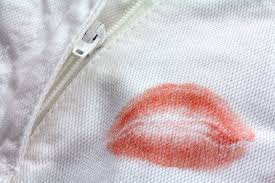kimchi: (105, 84, 247, 167)
